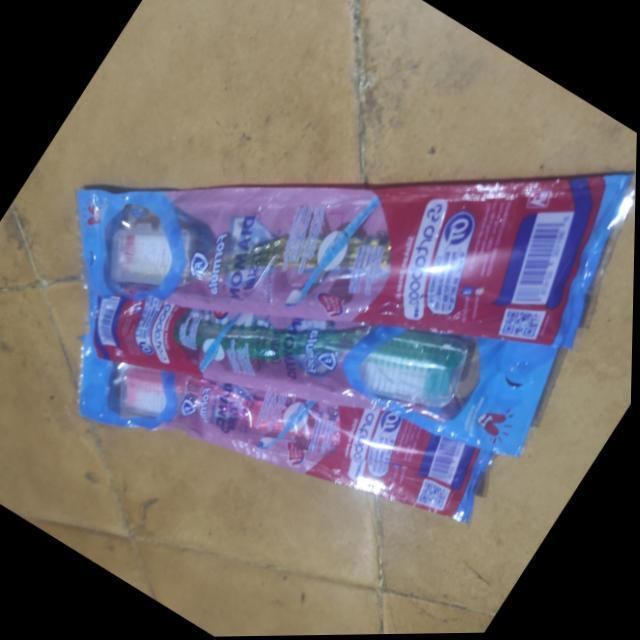toothbrush: (116, 362, 450, 492), (128, 306, 492, 422), (114, 222, 511, 307)
